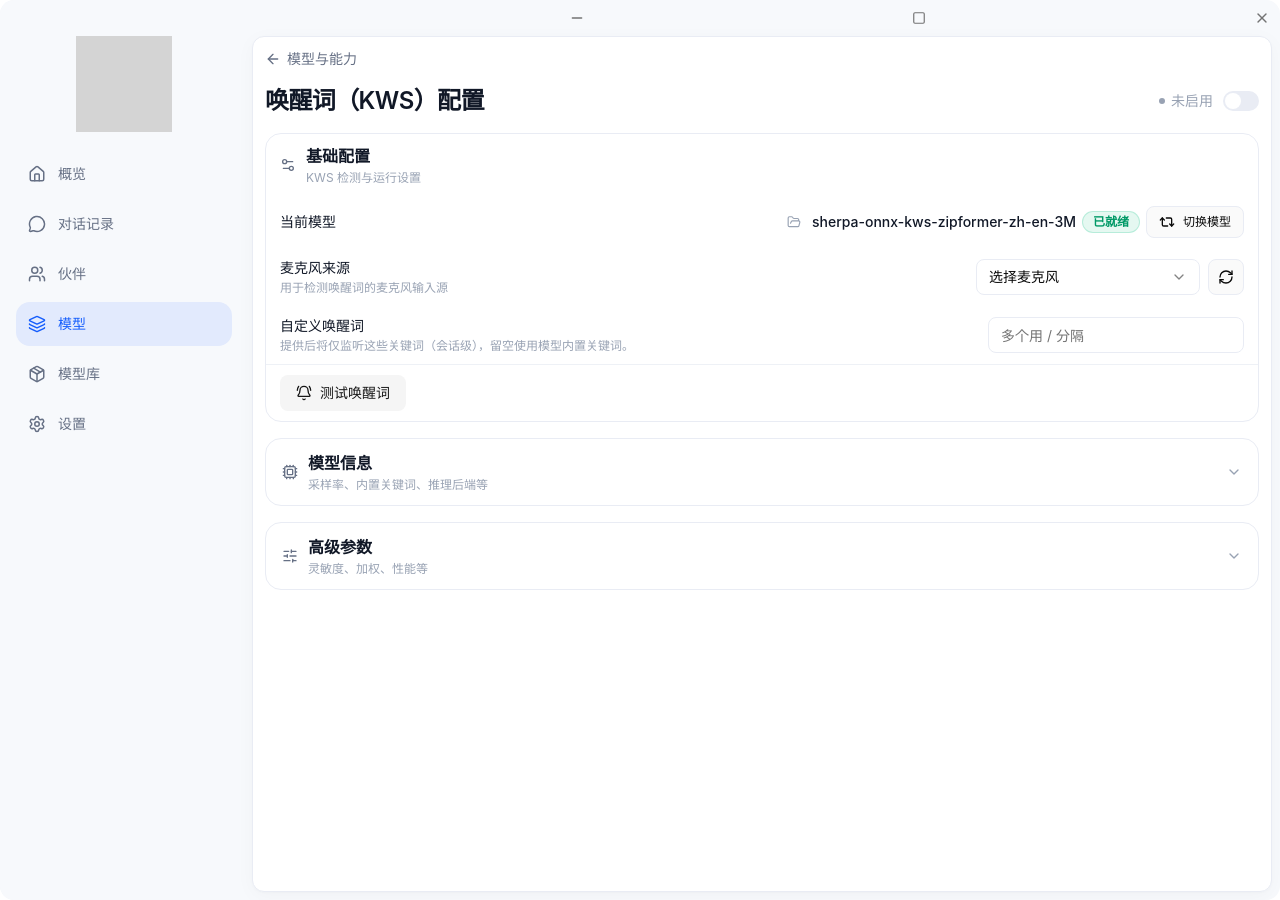
Test case: KwsPage（唤醒词配置） › 当前模型行有「切换模型」入口，点击打开选择模型弹窗
The width and height of the screenshot is (1280, 900).
Expected: the text "未启用" is shown, top-left (1159, 91), bottom-right (1213, 111)
What coordinates should you click on to do the following:
click the button with aria-label "切换唤醒词模型"
I would click on:
 (1195, 222)
Its box is top-left (1146, 206), bottom-right (1244, 238).
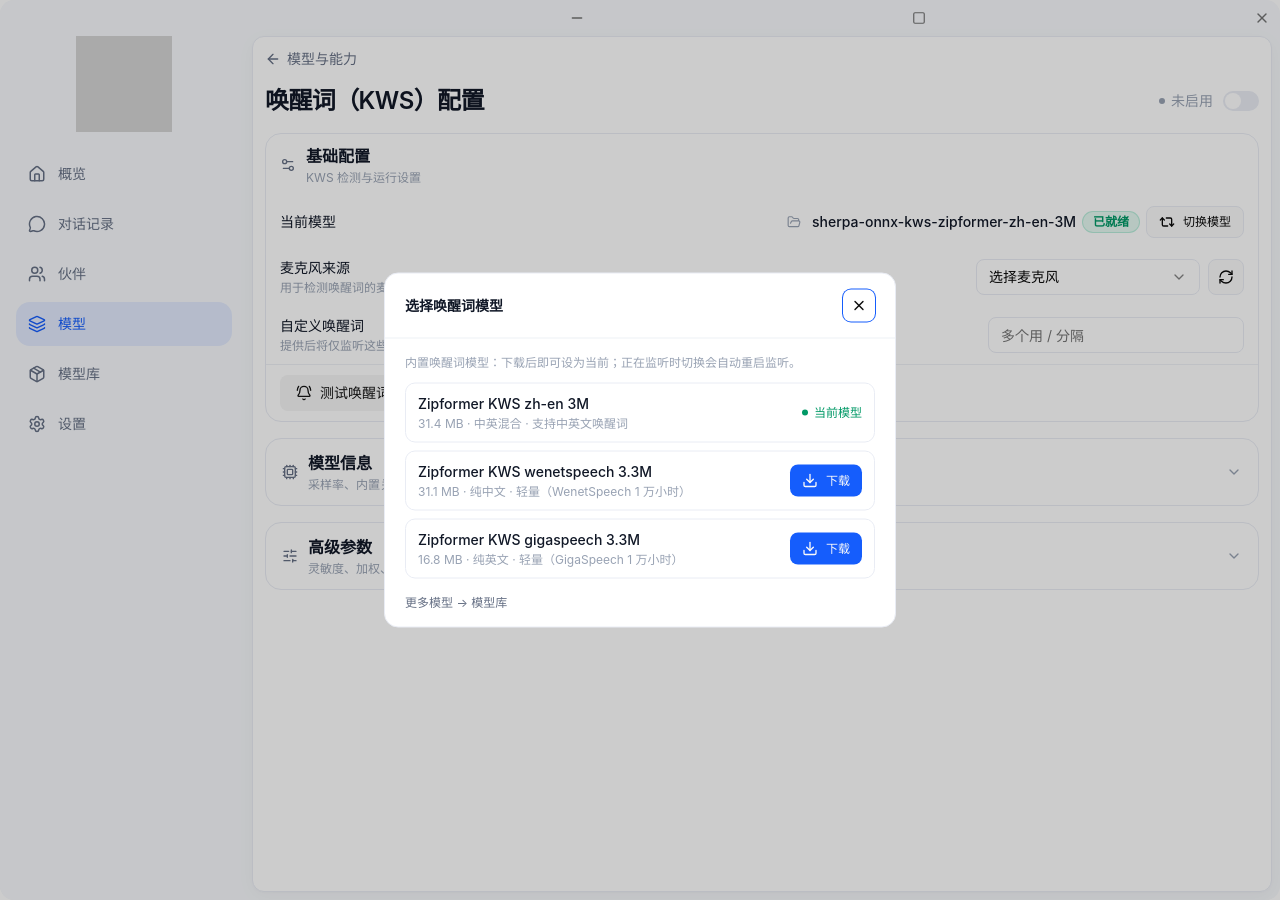
Expected: the heading "选择唤醒词模型" is shown, top-left (405, 296), bottom-right (503, 316)
Expected: the text "Zipformer KWS zh-en 3M" is shown, top-left (418, 394), bottom-right (589, 412)
Expected: the text "Zipformer KWS wenetspeech 3.3M" is shown, top-left (418, 462), bottom-right (691, 482)
